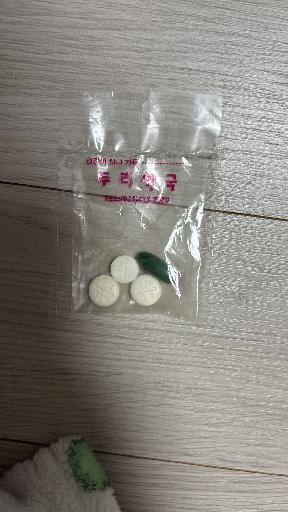Septrin: (130, 274, 162, 306), (88, 275, 119, 307)
vinyl: (59, 92, 222, 321)
